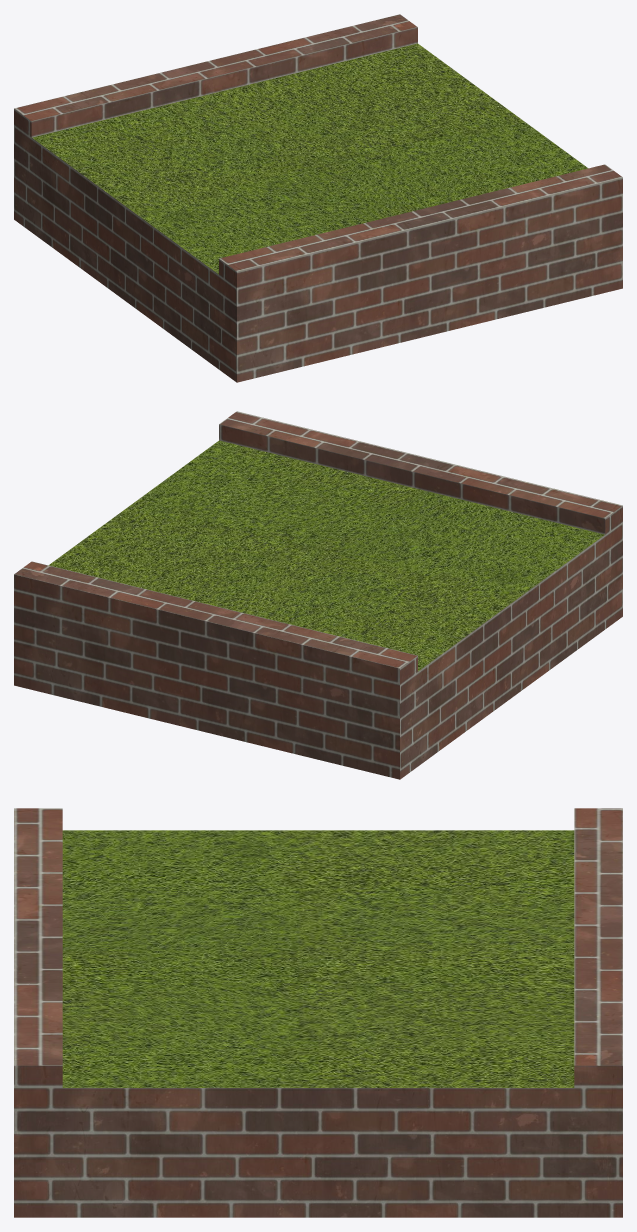
File: grass_doubleEdge.dae
3 renders of one model, top to bottom at view 1: azimuth 30°, elevation 25°; view 2: azimuth 150°, elevation 25°; view 3: azimuth 270°, elevation 25°, orthographic. The views are drawn at different scales.
Visible parts, largest first — view 1: group_0 (×2); view 2: group_0 (×2); view 3: group_0 (×2).
Part boxes in pixels (<box>): group_0 (×2): <box>14,14,622,382</box>; group_0 (×2): <box>14,411,622,779</box>; group_0 (×2): <box>14,808,622,1217</box>.
Bounding box in the file's own units: 39.37 × 39.37 × 10.83.
2 materials, 2 textured.
